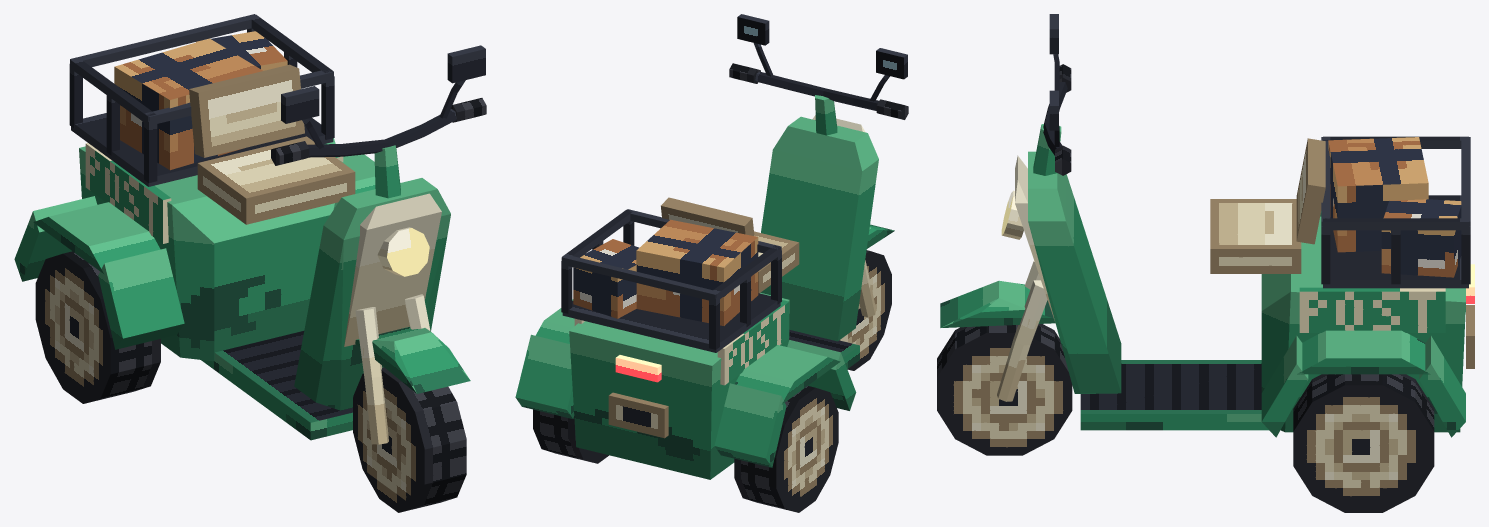
The model's file is postal-trike-provider.glb.
3 views of the same model, side by side, from view 1: azimuth 30°, elevation 25°; view 2: azimuth 150°, elevation 25°; view 3: azimuth 270°, elevation 25° (orthographic). The views are drawn at different scales.
Parts seen in each view (by area): view 1: rear_body, shield, wheel_f, wheel_r~x, seat, parcel_a, seat_back, shield_panel, footboard, flap_f~x, fender_top~x, fender_f (+22 smaller); view 2: shield, rear_body, parcel_a, wheel_r~x, flap_b~x, rack_floor, flap_b, parcel_b, fender_top~x, decal~x, wheel_f, plate (+21 smaller); view 3: wheel_r, wheel_f, shield, footboard, parcel_a, rear_body, seat, decal, fender_top, parcel_b, fender_f, rack_floor (+10 smaller).
Part boxes in pixels (x1,y1,x2,y2): rear_body: (79, 146, 343, 361); shield: (294, 178, 450, 410); wheel_f: (353, 367, 466, 512); wheel_r~x: (35, 251, 160, 403); seat: (197, 136, 355, 224); parcel_a: (114, 38, 262, 170); seat_back: (189, 64, 304, 157); shield_panel: (344, 193, 441, 346); footboard: (201, 331, 352, 440); flap_f~x: (98, 248, 184, 349); fender_top~x: (33, 202, 160, 273); fender_f: (355, 326, 470, 393); shield: (760, 116, 878, 341); rear_body: (569, 293, 789, 479); parcel_a: (636, 219, 758, 325); wheel_r~x: (734, 386, 838, 512); flap_b~x: (714, 383, 786, 467); rack_floor: (562, 293, 780, 352); flap_b: (515, 334, 574, 418); parcel_b: (573, 239, 638, 318); fender_top~x: (735, 345, 840, 404); decal~x: (717, 300, 789, 385); wheel_f: (839, 250, 891, 370); plate: (608, 392, 668, 438); wheel_r: (1293, 374, 1434, 512); wheel_f: (937, 324, 1072, 455); shield: (1028, 151, 1121, 393); footboard: (1080, 360, 1268, 430); parcel_a: (1328, 137, 1428, 252); rear_body: (1261, 216, 1465, 432); seat: (1210, 199, 1301, 273); decal: (1299, 287, 1445, 332); fender_top: (1297, 330, 1430, 374); parcel_b: (1381, 199, 1461, 277); fender_f: (940, 280, 1055, 327); rack_floor: (1323, 195, 1468, 288).
Bounding box in the file's own units: 1.12 × 1.46 × 1.84.
13 materials, 13 textured.
